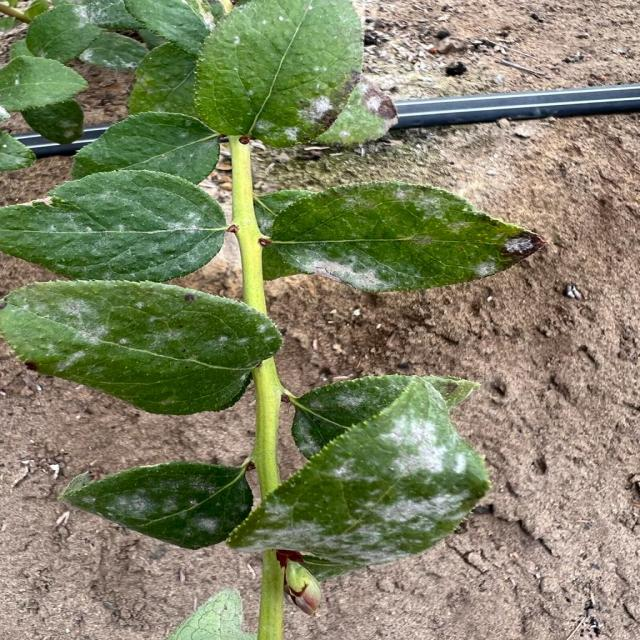Hojas con oidiosis: (270, 398, 476, 571), (17, 285, 275, 403), (294, 180, 542, 296), (38, 192, 220, 267), (84, 472, 260, 544), (284, 86, 342, 136)
